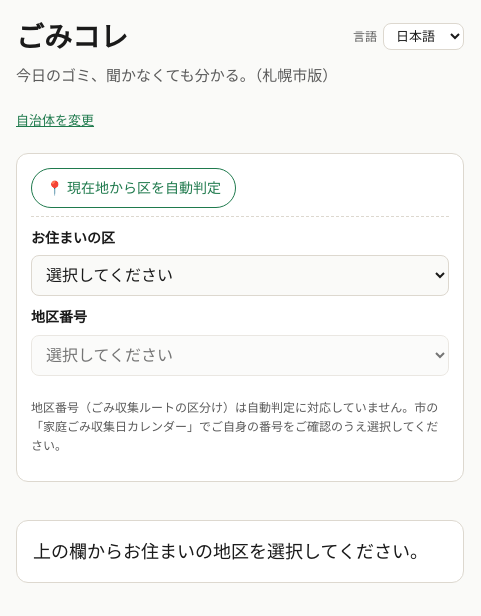
Test: App › shows a link to the official sorting dictionary when an item isn't found
Select "中央区" in the dropdown labelled "お住まいの区" at [240, 276], box 31,255 -> 449,296
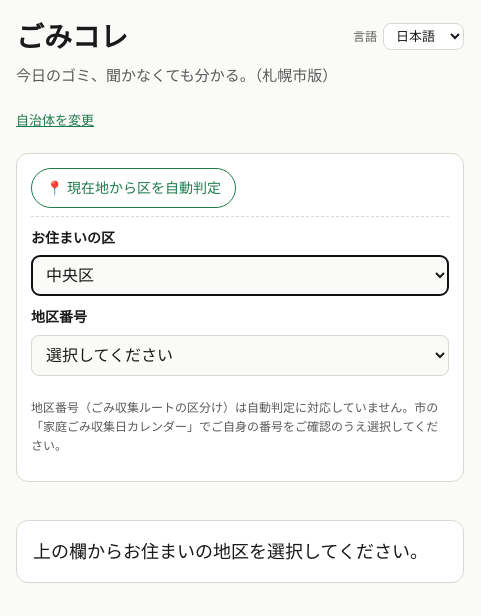
Select "第1地区" in the dropdown labelled "地区番号" at [240, 355], box 31,335 -> 449,376
(page scrolled)
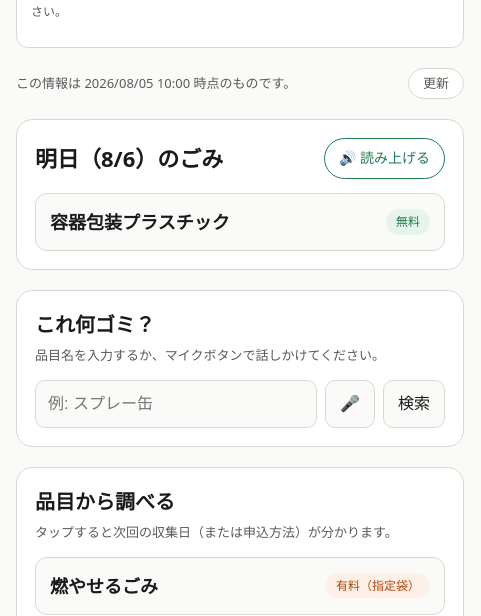
Type "ザザザ存在しない品目ザザザ" into the field with placeholder "例: スプレー缶" at [176, 404], box 35,380 -> 317,428
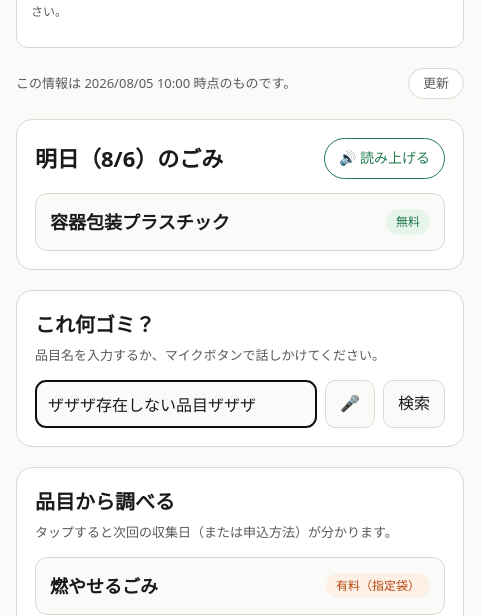
Click the button "検索" at [414, 404], box 383,380 -> 445,428
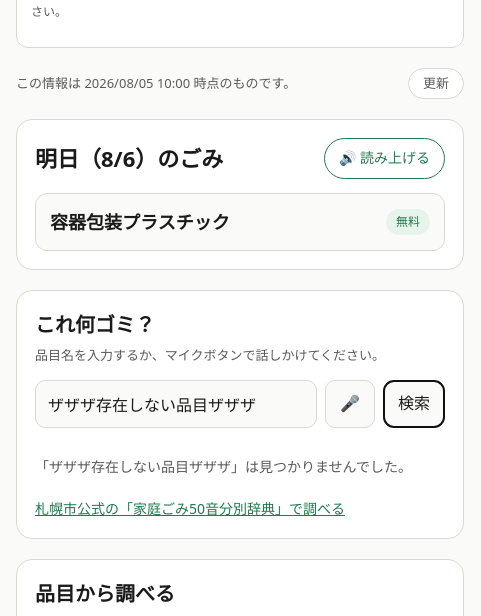
Expected: the text "「ザザザ存在しない品目ザザザ」は見つかりませんでした。" is shown, 35,456 -> 445,478
